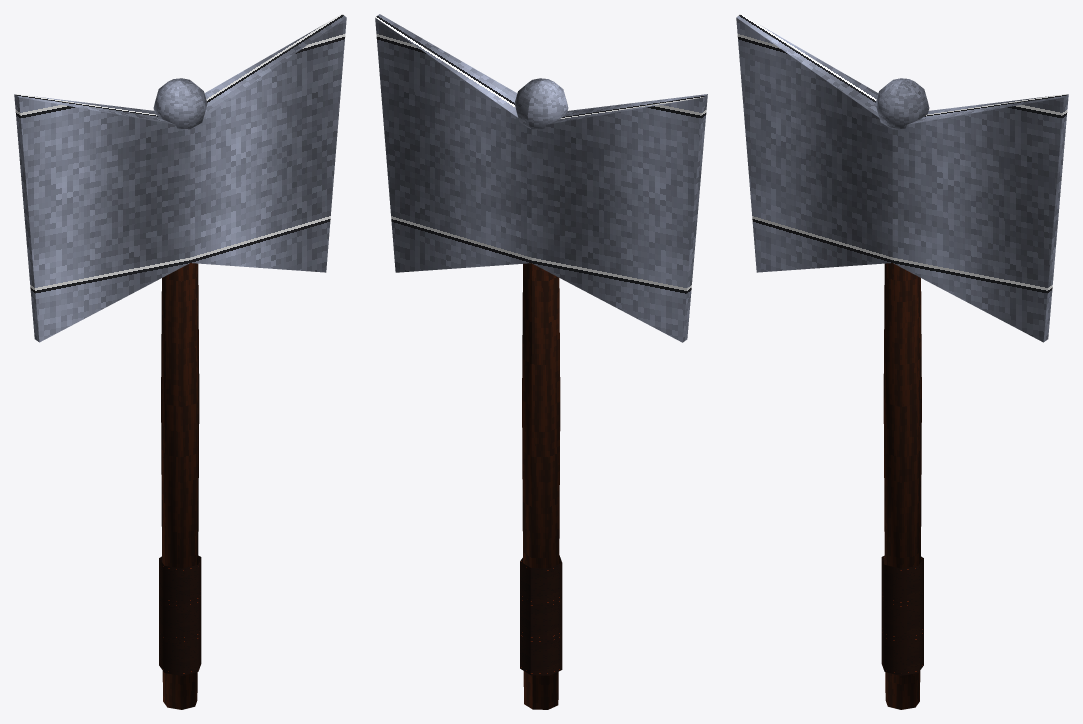
The model's file is w_axt.glb.
The picture shows the model from 3 angles, left to right: view 1: azimuth 30°, elevation 25°; view 2: azimuth 150°, elevation 25°; view 3: azimuth 330°, elevation 25°; orthographic projection.
Parts seen in each view (by area): view 1: bit-1, bit1, haft, wrap, cap; view 2: bit-1, bit1, haft, wrap, cap; view 3: bit1, bit-1, haft, wrap, cap.
Part boxes in pixels (box(x1,y1,x2,y2)): bit-1: box(14, 94, 190, 342); bit1: box(190, 14, 346, 272); haft: box(161, 263, 199, 709); wrap: box(159, 555, 201, 675); cap: box(153, 78, 207, 129); bit-1: box(531, 94, 707, 342); bit1: box(375, 14, 531, 272); haft: box(522, 263, 560, 709); wrap: box(520, 555, 562, 675); cap: box(514, 78, 568, 129); bit1: box(892, 94, 1068, 342); bit-1: box(736, 14, 892, 272); haft: box(883, 263, 921, 709); wrap: box(881, 555, 923, 675); cap: box(875, 78, 929, 129).
Size of the model in its own units: 0.96 by 1.81 by 0.14.
3 materials, 3 textured.
